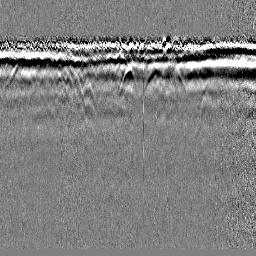cavity: (118, 63, 138, 96)
